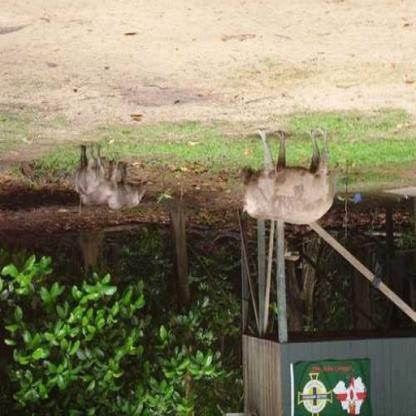boar: (212, 128, 337, 250), (64, 137, 113, 212), (110, 142, 155, 219)
